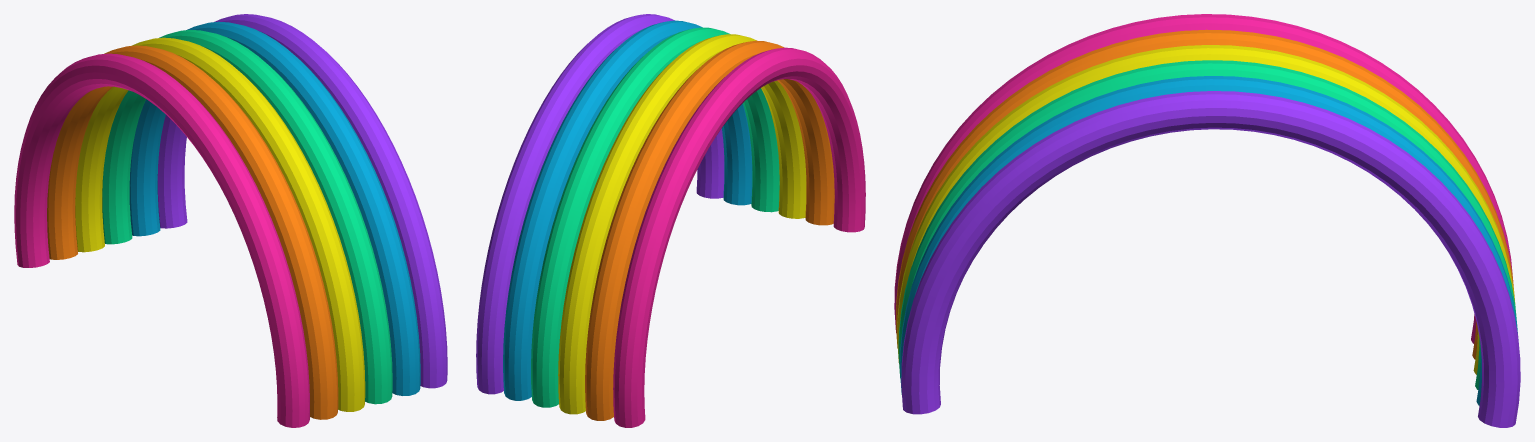
Rendered from HandRainbow2.gltf.
3 views of the same model, side by side, from view 1: azimuth 30°, elevation 25°; view 2: azimuth 150°, elevation 25°; view 3: azimuth 270°, elevation 25° (orthographic). The views are drawn at different scales.
Visible parts, largest first — view 1: Torus, Torus 2, Torus 3, Torus 4, Torus 5, Torus 6; view 2: Torus, Torus 2, Torus 3, Torus 4, Torus 5, Torus 6; view 3: Torus 6, Torus, Torus 4, Torus 3, Torus 5, Torus 2.
Part boxes in pixels (box(x1,y1,x2,y2)): Torus: box(14, 53, 309, 427); Torus 2: box(47, 45, 338, 419); Torus 3: box(75, 37, 365, 411); Torus 4: box(102, 30, 392, 404); Torus 5: box(129, 21, 420, 395); Torus 6: box(157, 14, 447, 388); Torus: box(613, 47, 865, 427); Torus 2: box(585, 40, 834, 420); Torus 3: box(558, 34, 806, 414); Torus 4: box(531, 27, 779, 407); Torus 5: box(503, 20, 752, 400); Torus 6: box(476, 14, 724, 394); Torus 6: box(901, 91, 1520, 427); Torus: box(894, 14, 1512, 343); Torus 4: box(898, 60, 1516, 389); Torus 3: box(897, 45, 1515, 374); Torus 5: box(900, 76, 1518, 405); Torus 2: box(896, 29, 1513, 359).
Size of the model in its own units: 0.1101 by 0.1611 by 0.2726.
